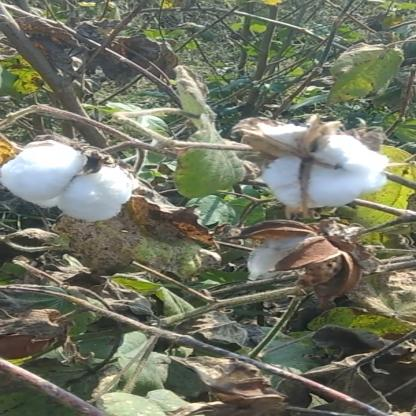cotton_ready: (218, 104, 392, 218), (0, 130, 154, 227)
